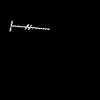treble_crochet: (10, 24, 48, 30)
